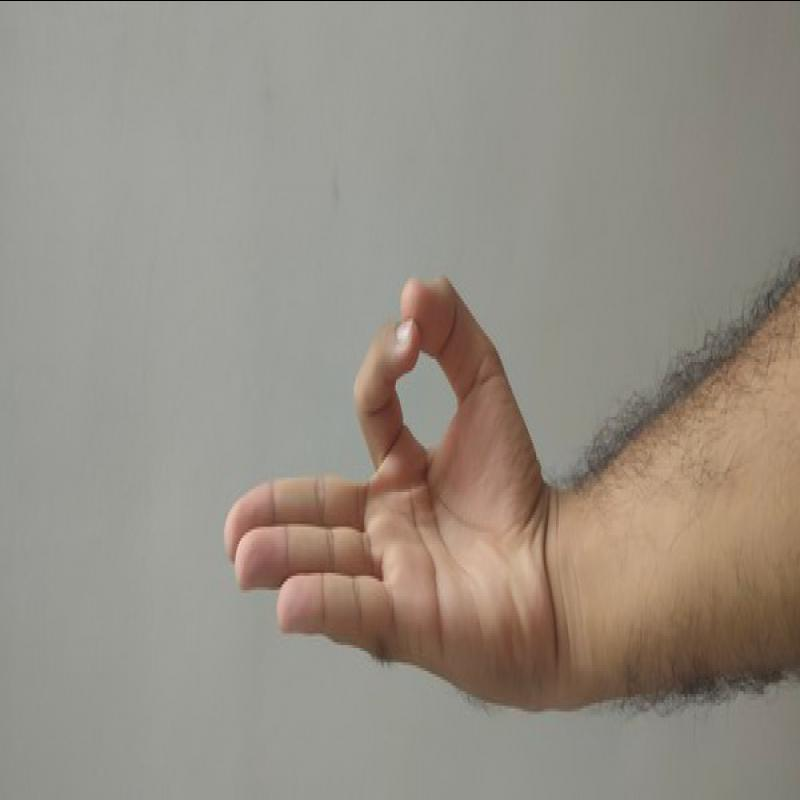Mudraakhyam: (194, 254, 562, 739)
